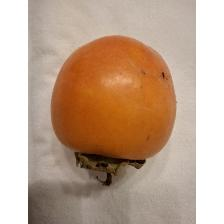Kaki: (48, 32, 180, 188)
